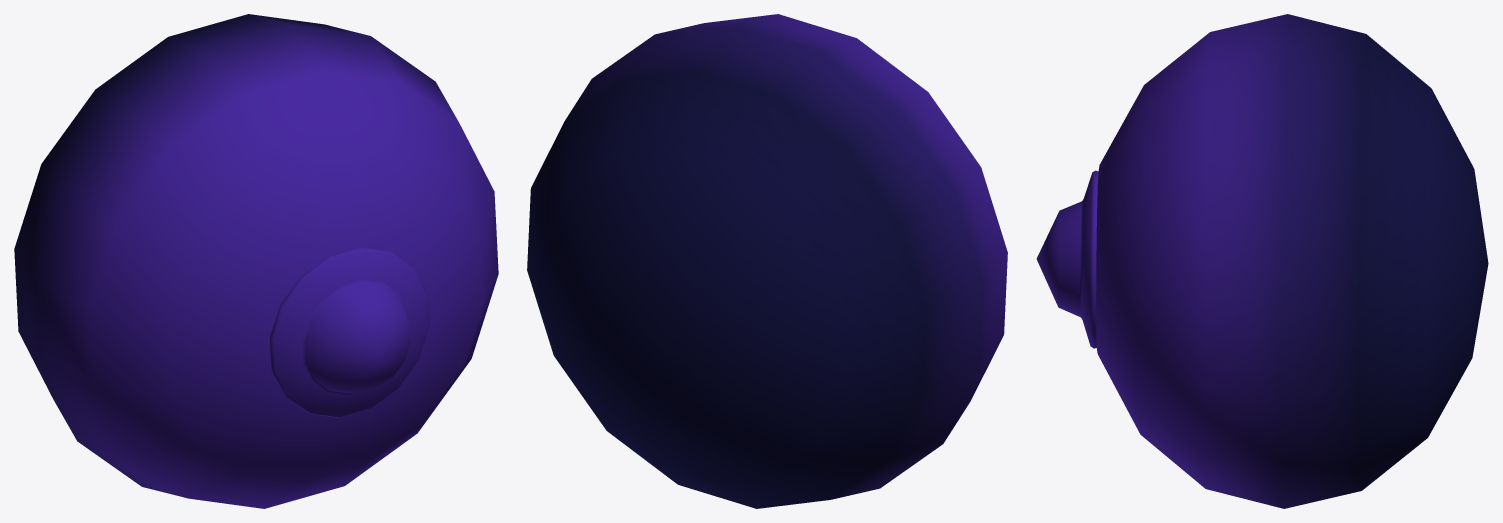
The model's file is pref_fx_greedent_spellU_object_lv3.fbx.
3 renders of one model, left to right at view 1: azimuth 30°, elevation 25°; view 2: azimuth 150°, elevation 25°; view 3: azimuth 270°, elevation 25°, orthographic.
Parts seen in each view (by area): view 1: pref_fruit_green; view 2: pref_fruit_green; view 3: pref_fruit_green.
Boxes of the visible parts, x1=… form: pref_fruit_green: x1=14, y1=14, x2=498, y2=508; pref_fruit_green: x1=527, y1=14, x2=1007, y2=508; pref_fruit_green: x1=1036, y1=14, x2=1488, y2=508.
Bounding box in the file's own units: 0.2017 × 0.2017 × 0.1828.
